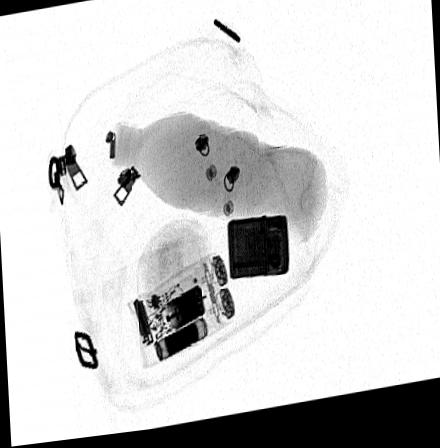Lighter: (226, 219, 290, 287)
